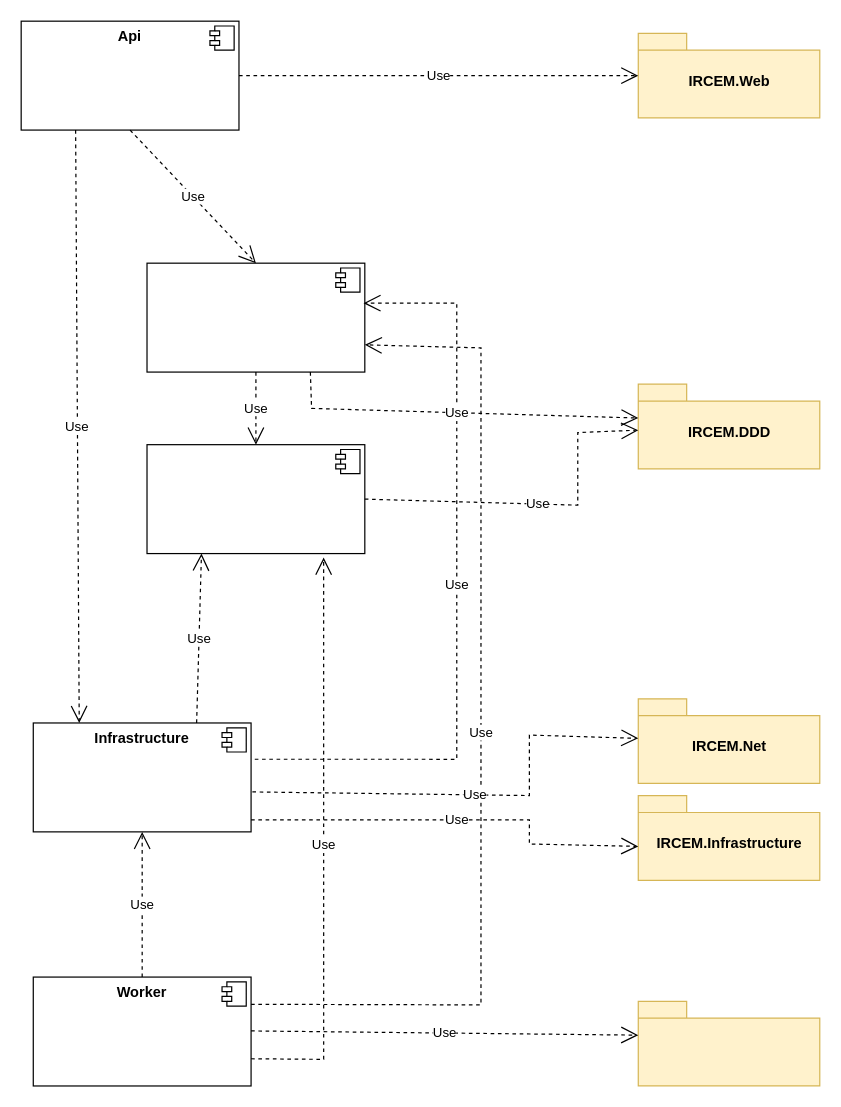
This 841x1107 diagram has some shape labels left out. Each missing label, with the centre of its shape:
Application: (255,317)
Domaine: (255,498)
IRCEM.Worker: (728,1043)
